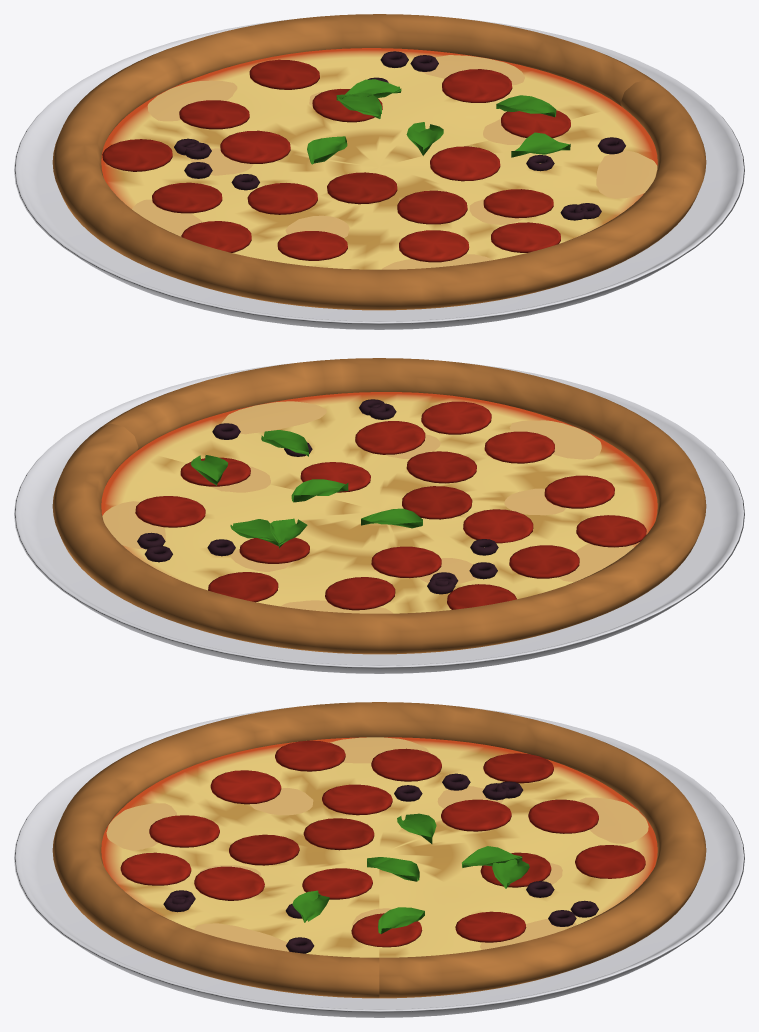
Rendered from pizza.glb.
3 views of the same model, one above another, from view 1: azimuth 30°, elevation 25°; view 2: azimuth 150°, elevation 25°; view 3: azimuth 270°, elevation 25° (orthographic).
Parts seen in each view (by area): view 1: pizza; view 2: pizza; view 3: pizza.
Part boxes in pixels (box(x1,y1,x2,y2)): pizza: box(14, 14, 744, 329); pizza: box(14, 358, 744, 673); pizza: box(14, 702, 744, 1017).
Size of the model in its own units: 0.331 by 0.0201 by 0.331.
